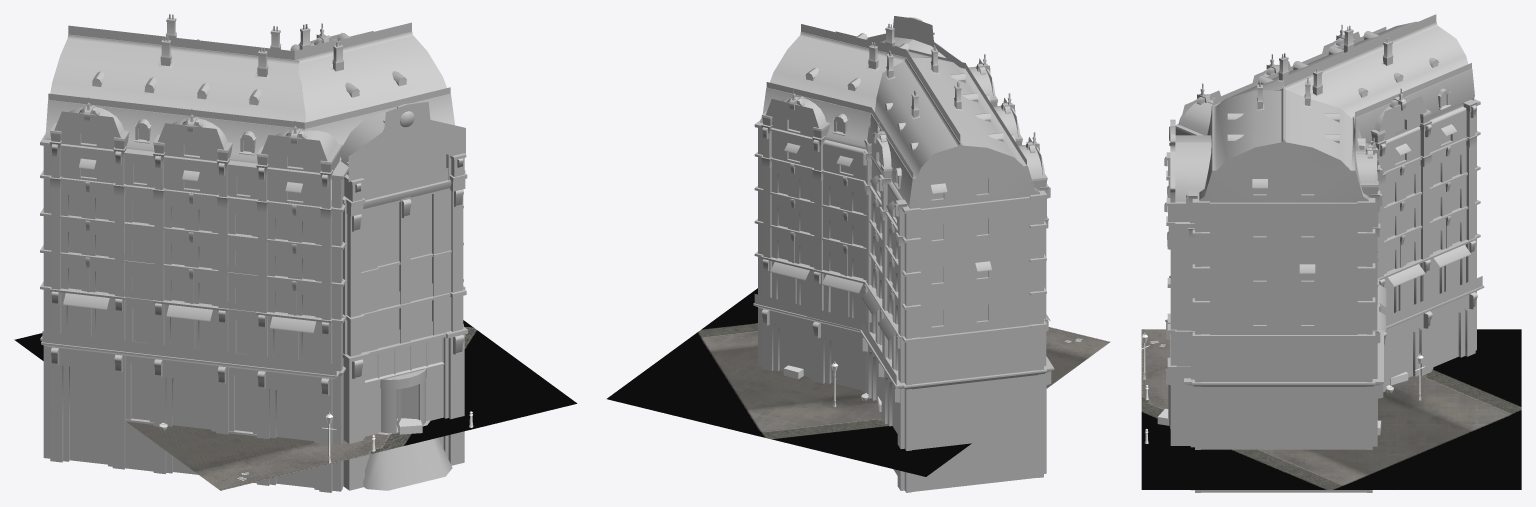
The model's file is wide2_mirror.gltf.
The picture shows the model from 3 angles, left to right: view 1: azimuth 30°, elevation 25°; view 2: azimuth 150°, elevation 25°; view 3: azimuth 270°, elevation 25°; orthographic projection. The views are drawn at different scales.
Visible parts, largest first — view 1: _lod0, _ground; view 2: _lod0, _ground; view 3: _lod0, _ground.
Part boxes in pixels (left/top/right/bottom): _lod0: left=40, top=14, right=467, bottom=492; _ground: left=14, top=320, right=577, bottom=490; _lod0: left=753, top=16, right=1054, bottom=492; _ground: left=607, top=288, right=1109, bottom=476; _lod0: left=1164, top=14, right=1484, bottom=492; _ground: left=1141, top=329, right=1521, bottom=489.
Size of what is drawn, in the model's own units: 4.65 by 4.33 by 4.02.
